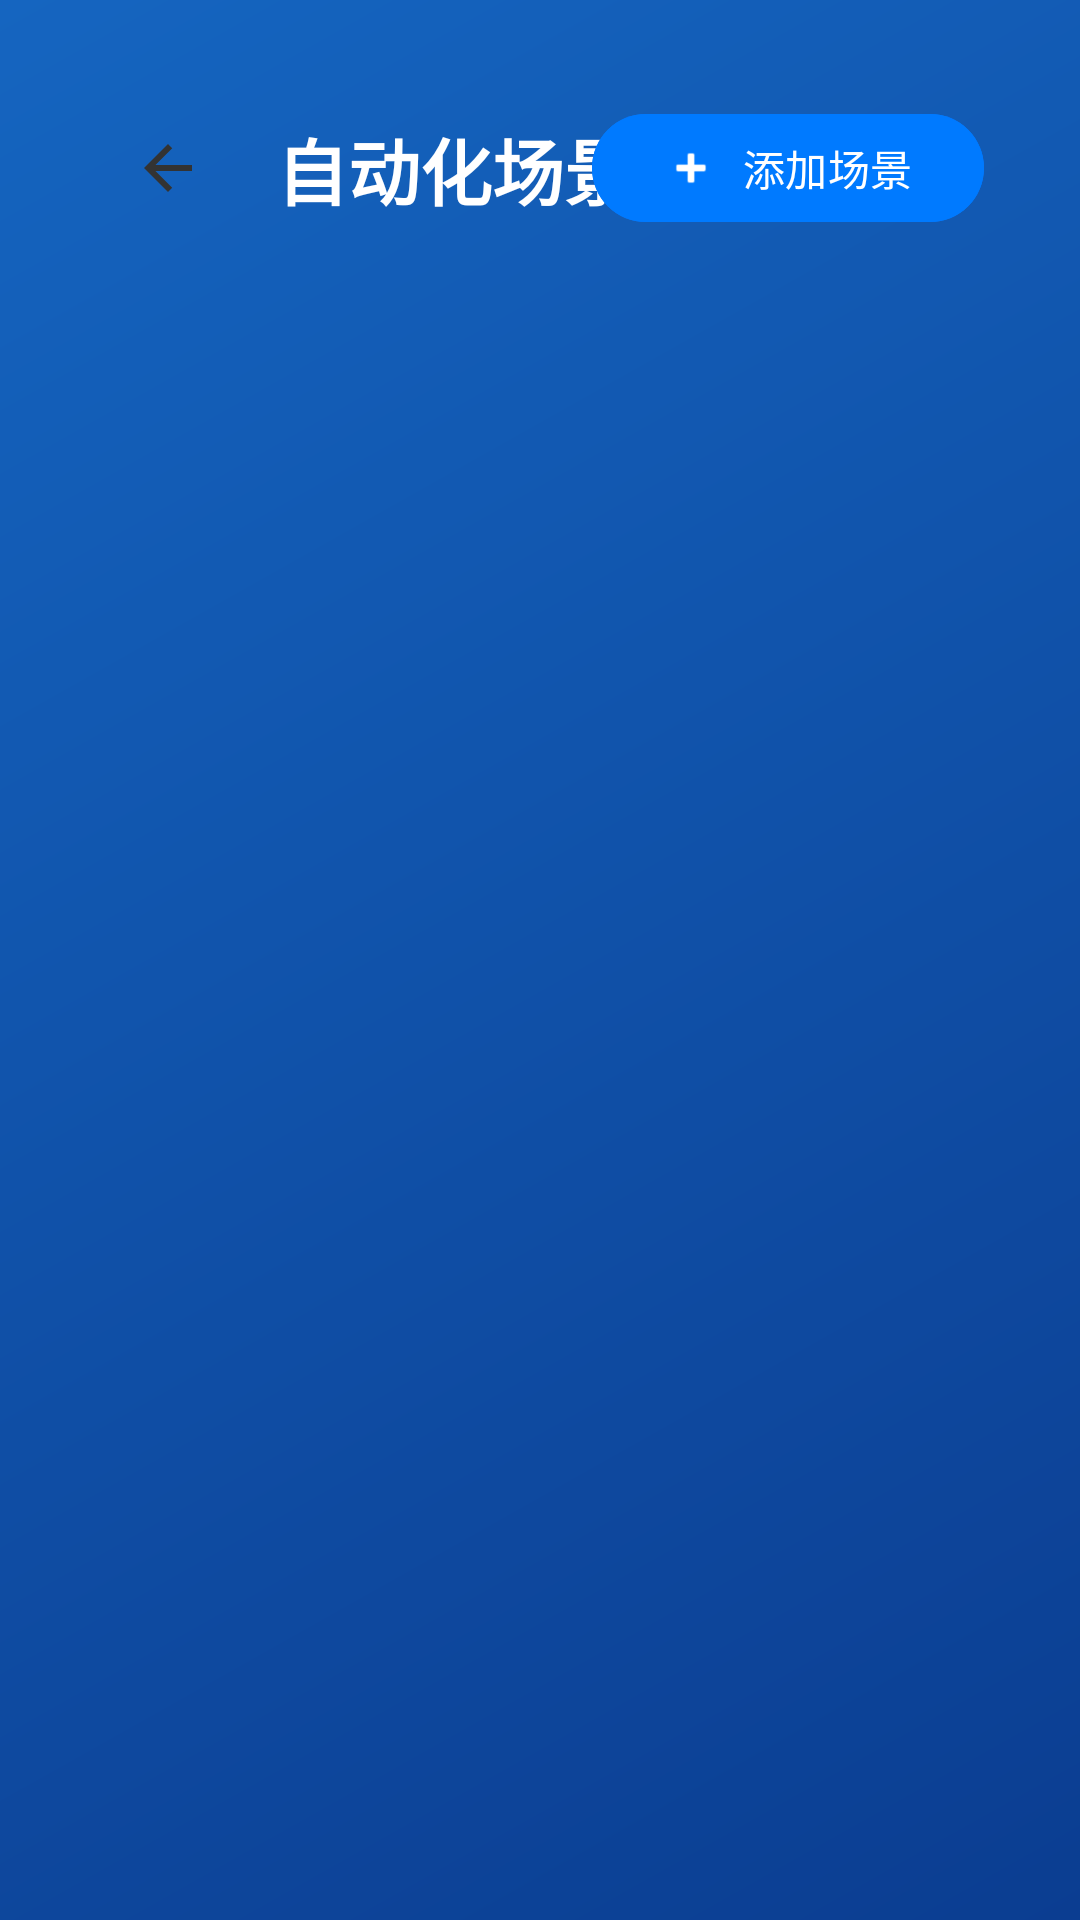

Screen size 1080w x 1920h. Icon name, then its center in pixels as (x=x, y=y):
返回: (x=168, y=168)
